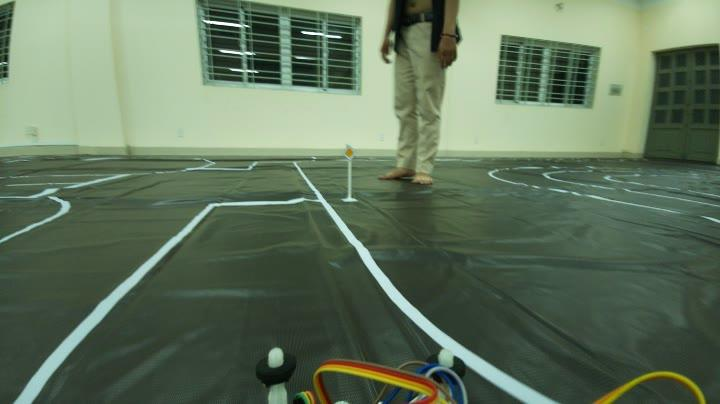priority: (338, 142, 358, 162)
